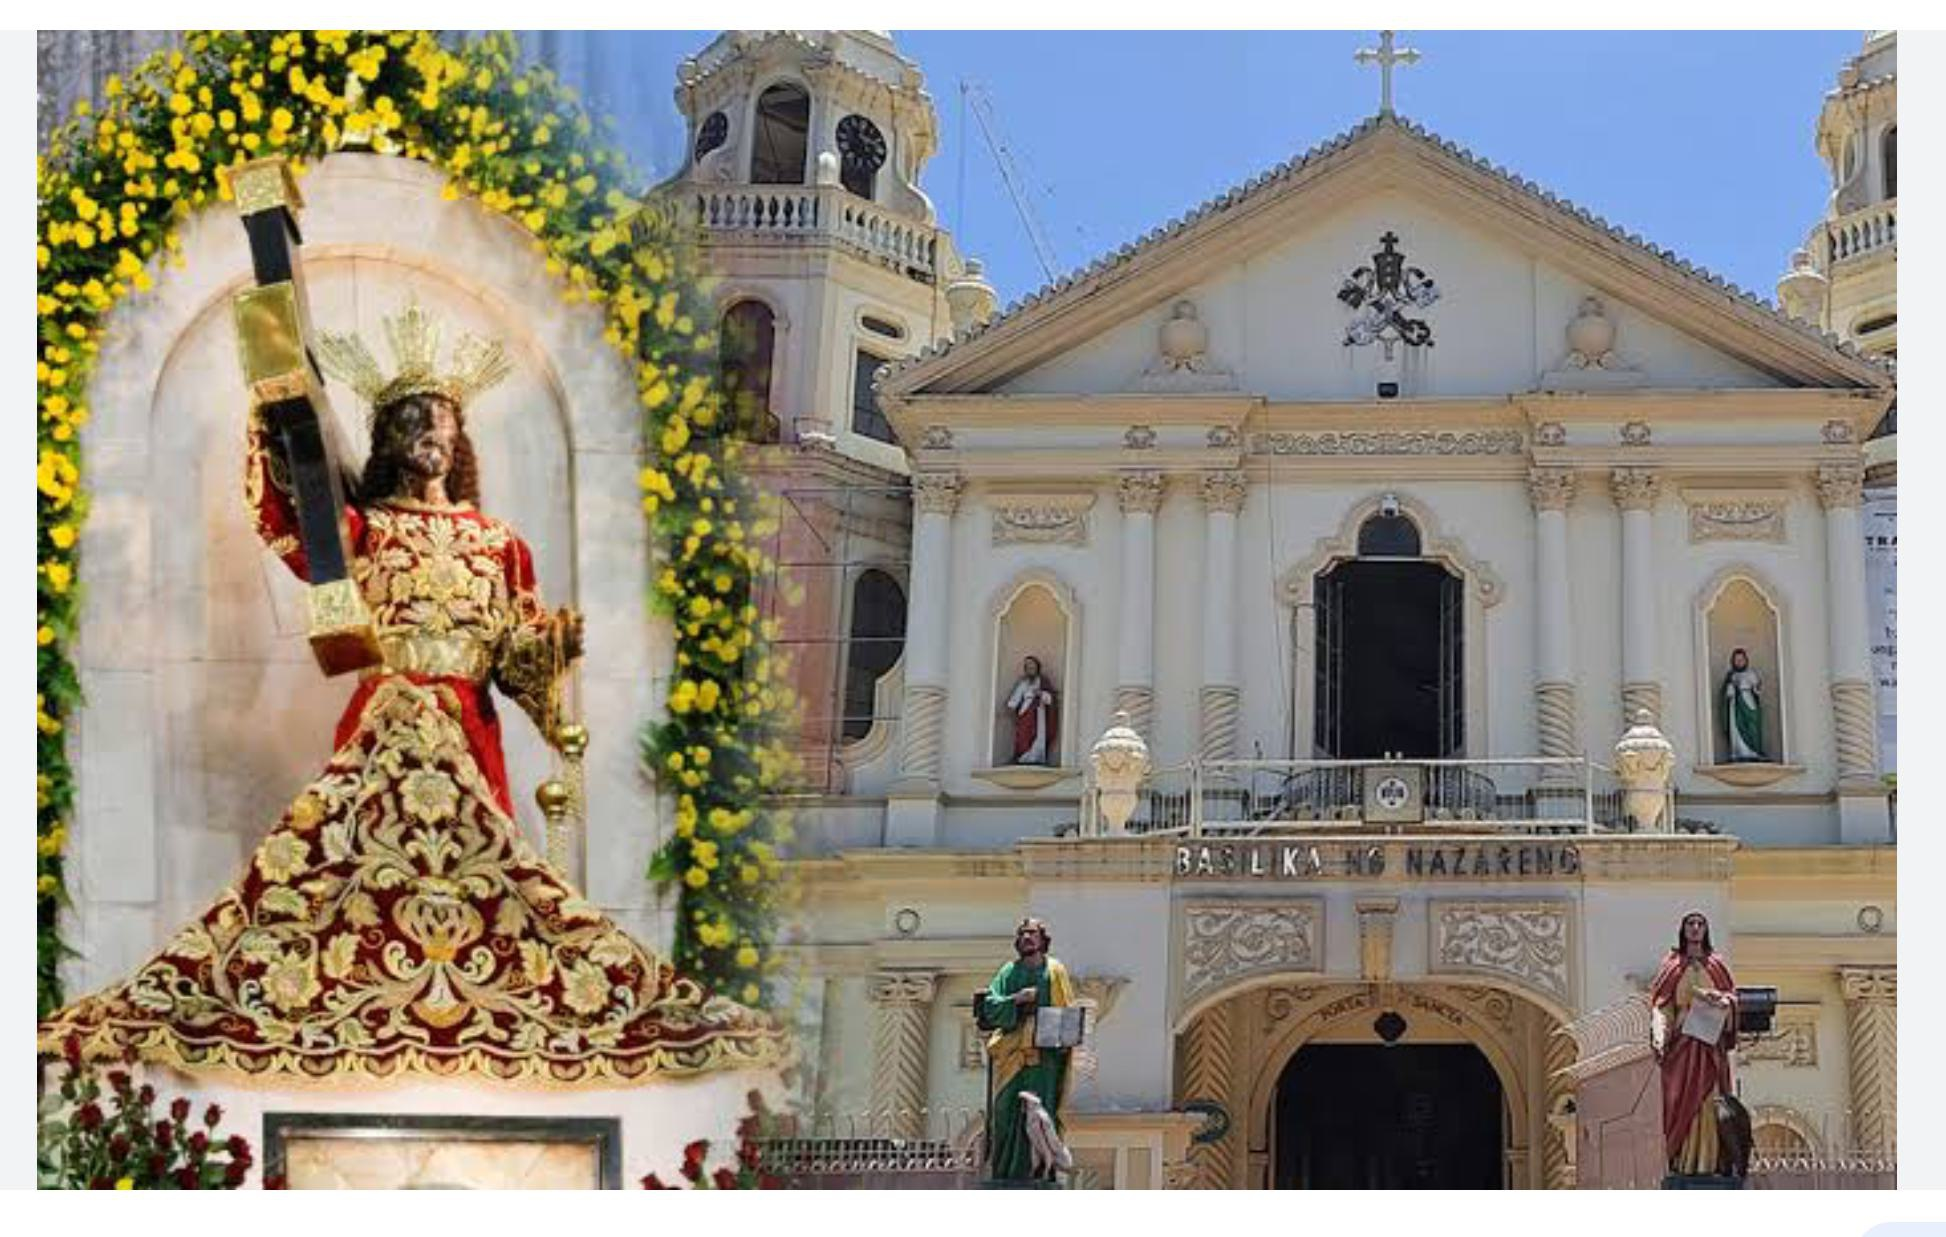quiapo_church_quiapo_manila: (594, 28, 1894, 1185)
